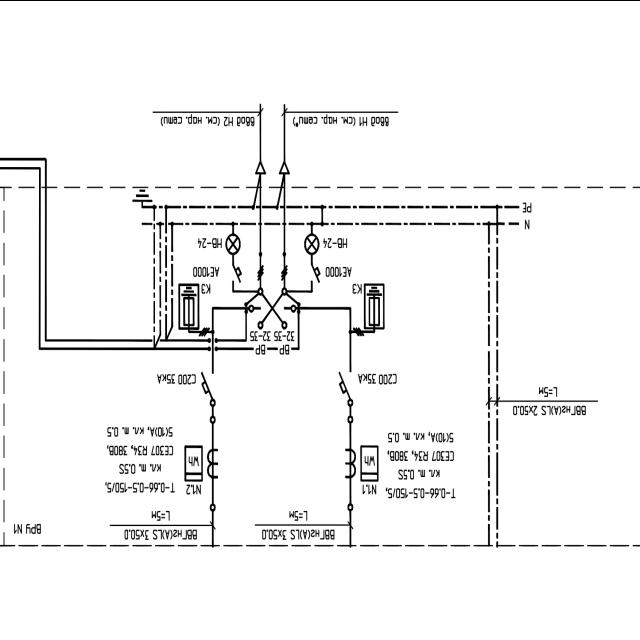-: (384, 426, 456, 502), (102, 422, 177, 493), (153, 366, 200, 386), (356, 367, 398, 386), (249, 326, 272, 354), (274, 328, 296, 356), (14, 520, 44, 536), (322, 262, 354, 276), (322, 234, 349, 250), (192, 264, 220, 278), (196, 236, 223, 249)
HL: (224, 232, 242, 255), (304, 231, 320, 255)
QF: (200, 364, 218, 406), (338, 366, 355, 408), (310, 262, 322, 286), (231, 262, 243, 285)
TT: (342, 444, 358, 480), (207, 444, 220, 480)
WH: (358, 443, 379, 483), (183, 444, 204, 482)
switch: (248, 288, 270, 330), (275, 286, 295, 328)
